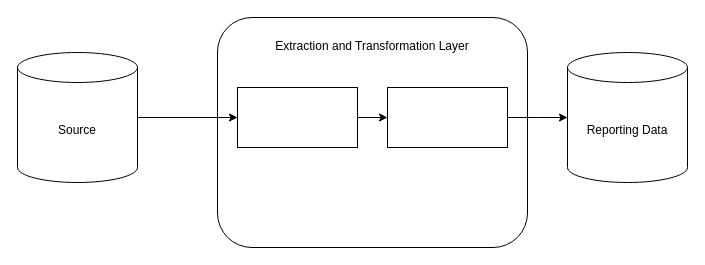
Image size: 705x265. Some labels were removed from this diagram. The centre of each missing label's shape, as x and y in pixels:
"Automate" goes at pixel 447 117.
"Transform" goes at pixel 297 117.
